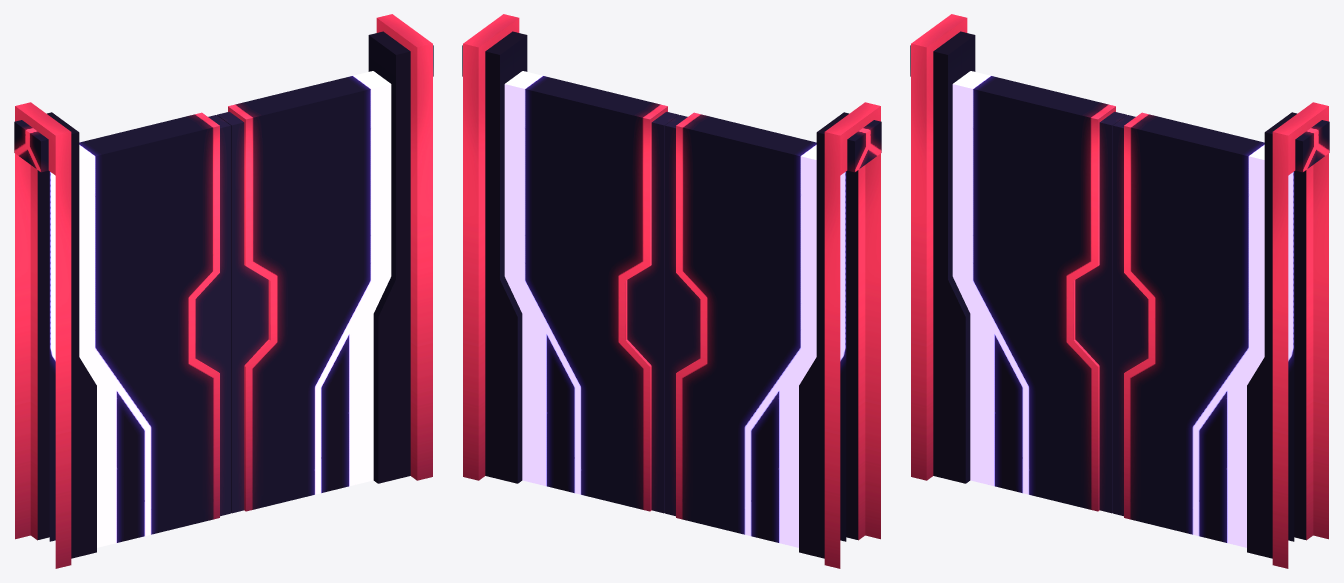
Rendered from door high.glb.
3 renders of one model, left to right at view 1: azimuth 30°, elevation 25°; view 2: azimuth 150°, elevation 25°; view 3: azimuth 330°, elevation 25°, orthographic.
Visible parts, largest first — view 1: door left, door right, door frame.005, door frame.004, door frame.015; view 2: door left, door right, door frame.005, door frame.004, door frame.015; view 3: door right, door left, door frame.005, door frame.004, door frame.015.
Part boxes in pixels (bbox=[...]): door left: bbox=[217, 71, 391, 513]; door right: bbox=[49, 112, 230, 547]; door frame.005: bbox=[15, 14, 432, 568]; door frame.004: bbox=[37, 31, 410, 558]; door frame.015: bbox=[14, 45, 433, 172]; door left: bbox=[504, 71, 678, 513]; door right: bbox=[665, 112, 846, 547]; door frame.005: bbox=[463, 14, 880, 568]; door frame.004: bbox=[485, 31, 858, 558]; door frame.015: bbox=[462, 45, 881, 172]; door right: bbox=[952, 71, 1126, 513]; door left: bbox=[1113, 112, 1294, 547]; door frame.005: bbox=[911, 14, 1328, 568]; door frame.004: bbox=[933, 31, 1306, 558]; door frame.015: bbox=[910, 45, 1329, 172].
Bounding box in the file's own units: 1.04 × 1.1 × 0.186.
1 material, 1 textured.
